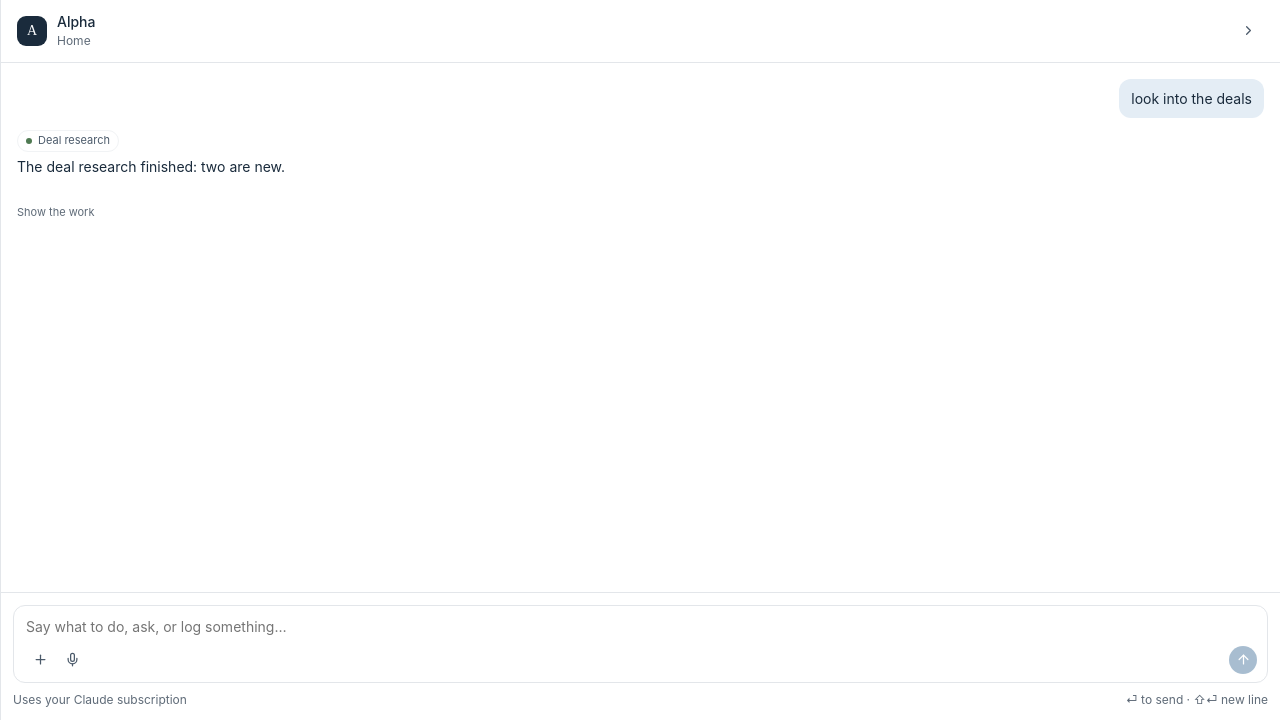
it: the assistant panel › puts the desk's reply on finished work in place of its live message, and its chip filters the stream
expect the text "The deal research finished: two are new." is shown: met, box [17,158,285,175]
Click the button "Deal research".
click(68, 141)  # box [17,130,119,152]
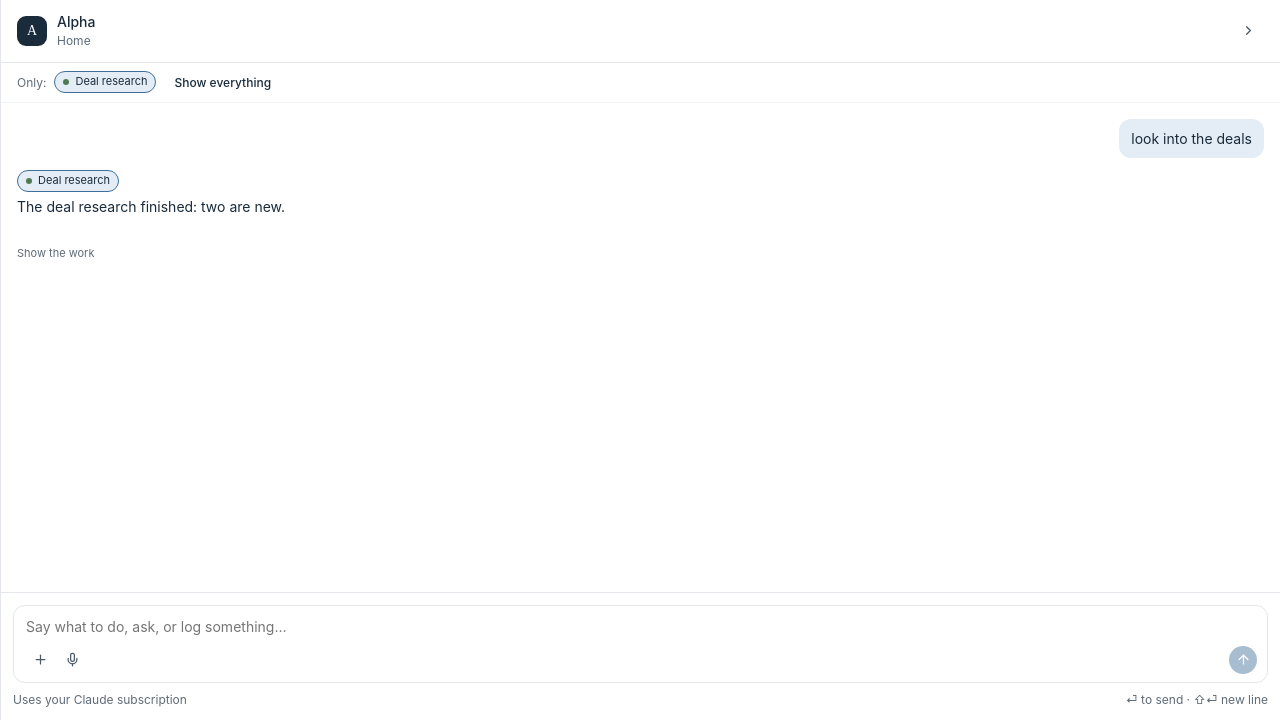
expect the button "Show everything" is shown: met, box [164,69,281,96]
